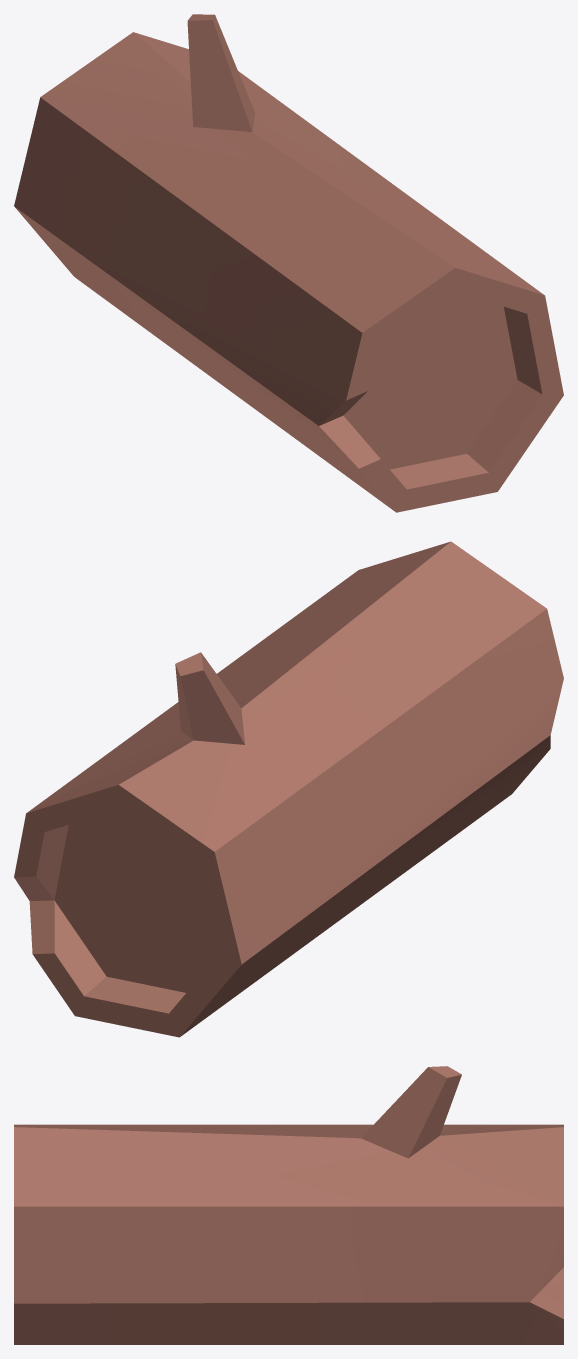
Rendered from poleno_static.fbx.
The picture shows the model from 3 angles, top to bottom: view 1: azimuth 30°, elevation 25°; view 2: azimuth 150°, elevation 25°; view 3: azimuth 270°, elevation 25°; orthographic projection. The views are drawn at different scales.
Parts seen in each view (by area): view 1: poleno; view 2: poleno; view 3: poleno.
Part boxes in pixels (bbox=[...]): poleno: bbox=[14, 14, 563, 512]; poleno: bbox=[14, 541, 563, 1037]; poleno: bbox=[14, 1066, 563, 1344].
Bounding box in the file's own units: 0.3857 × 0.4929 × 0.9445.
1 material, 1 textured.
